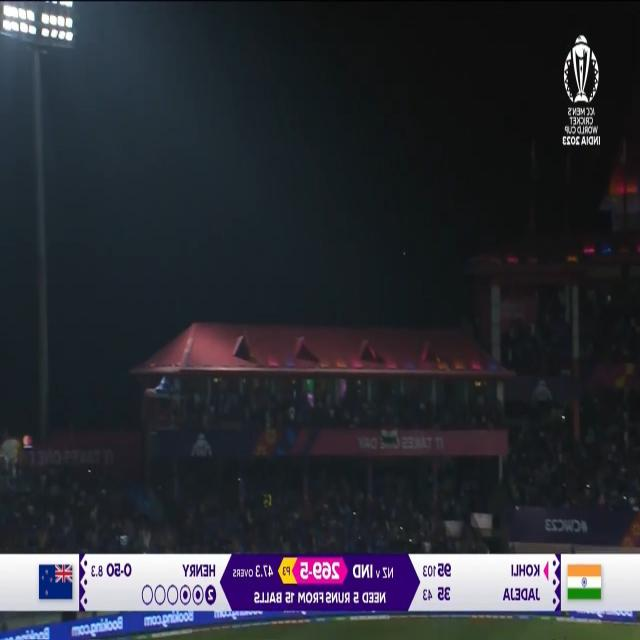ball: (398, 243, 410, 264)
